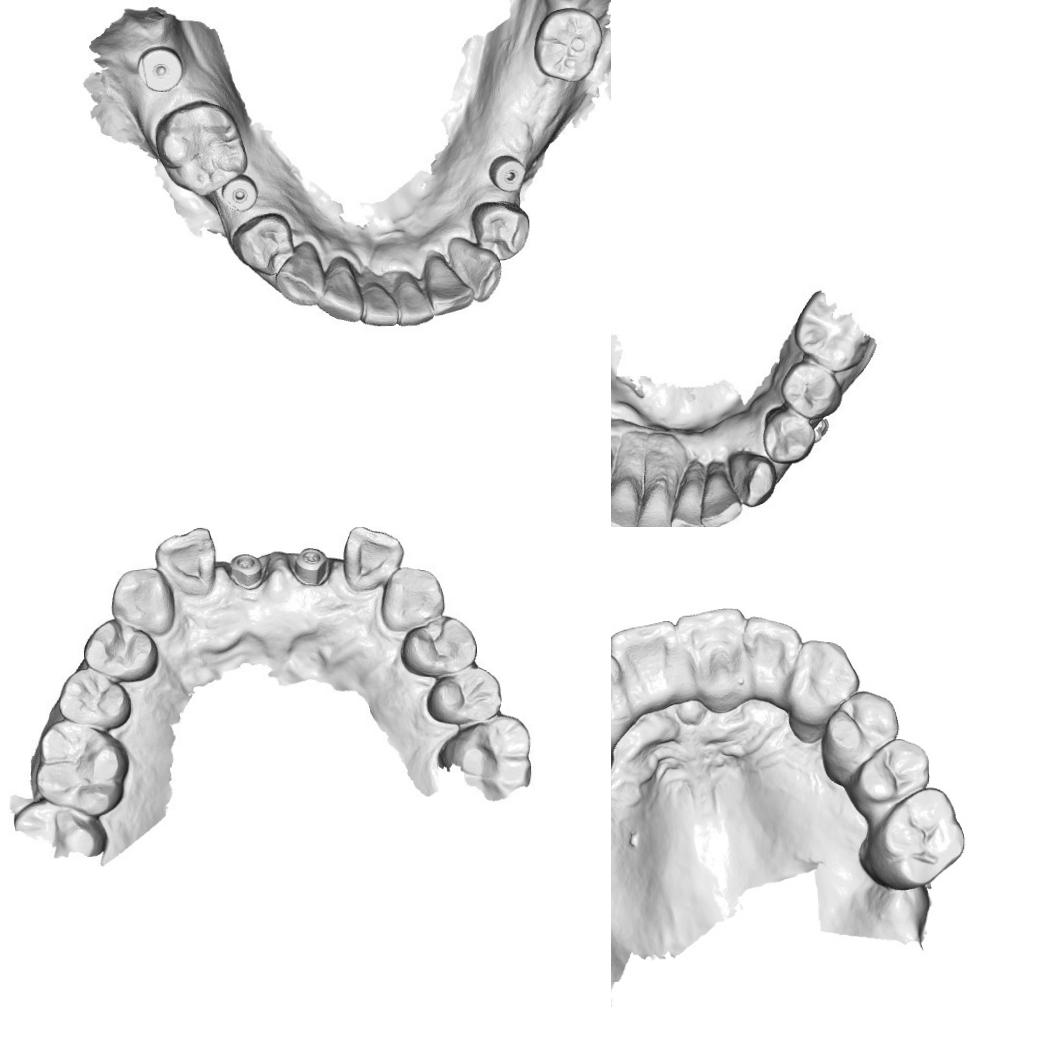canine: (784, 638, 861, 729), (108, 567, 177, 637), (378, 564, 444, 632), (446, 237, 502, 302), (274, 247, 324, 306), (732, 453, 778, 509)
implant: (136, 46, 184, 94), (222, 174, 262, 216), (229, 550, 266, 590), (294, 545, 330, 583), (492, 153, 526, 191)
incisor: (672, 604, 748, 694), (611, 617, 678, 696), (151, 527, 223, 597), (740, 612, 802, 686), (340, 527, 403, 591), (429, 255, 476, 317), (324, 256, 361, 324), (700, 464, 739, 526), (633, 467, 672, 527), (671, 463, 706, 527), (360, 278, 400, 331), (611, 466, 641, 527), (398, 271, 430, 324), (611, 647, 628, 723)
molar: (872, 785, 968, 891), (29, 718, 132, 816), (156, 98, 242, 194), (437, 712, 533, 795), (788, 287, 868, 372), (532, 5, 604, 83)
premolar: (821, 688, 901, 766), (850, 735, 931, 810), (76, 620, 160, 682), (427, 662, 506, 724), (402, 616, 479, 676), (57, 666, 131, 728), (232, 214, 292, 272), (474, 201, 532, 259), (784, 361, 840, 419), (763, 404, 815, 458)
